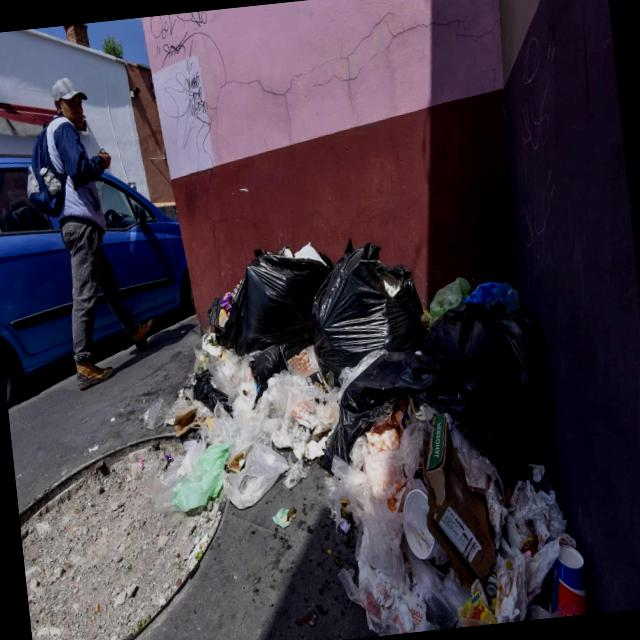garbage: (148, 216, 594, 640)
